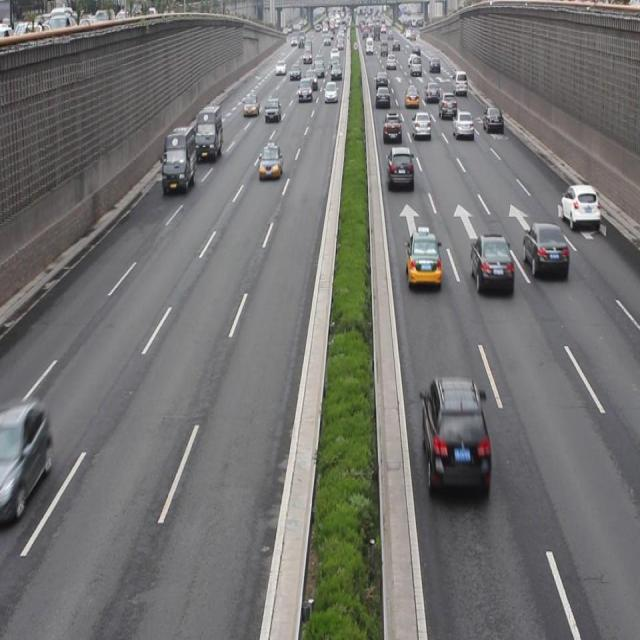car: (420, 374, 490, 492), (1, 398, 51, 520), (470, 232, 513, 297), (522, 219, 567, 279), (404, 229, 441, 289), (558, 182, 599, 228), (258, 142, 284, 182), (382, 110, 403, 145), (452, 109, 473, 139), (482, 104, 503, 134), (412, 110, 431, 140), (437, 91, 456, 119)
truck: (161, 124, 197, 194), (194, 105, 222, 163), (387, 143, 414, 190)
